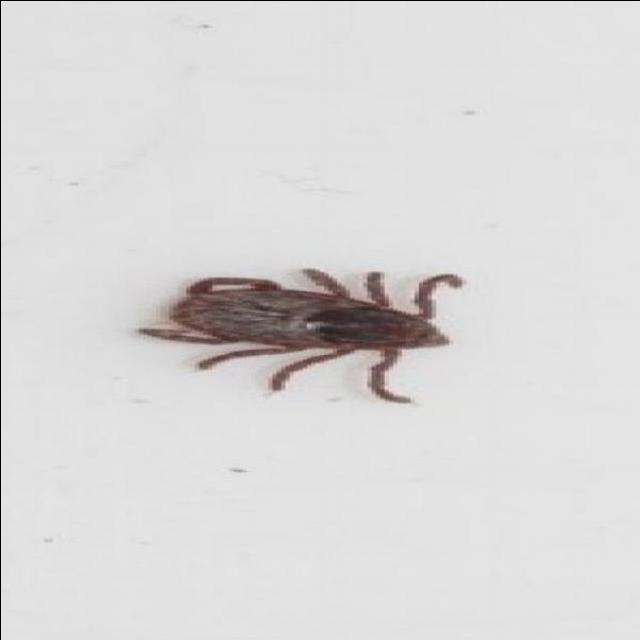Rhipicephalus Sanguineus-F: (129, 271, 465, 404)
